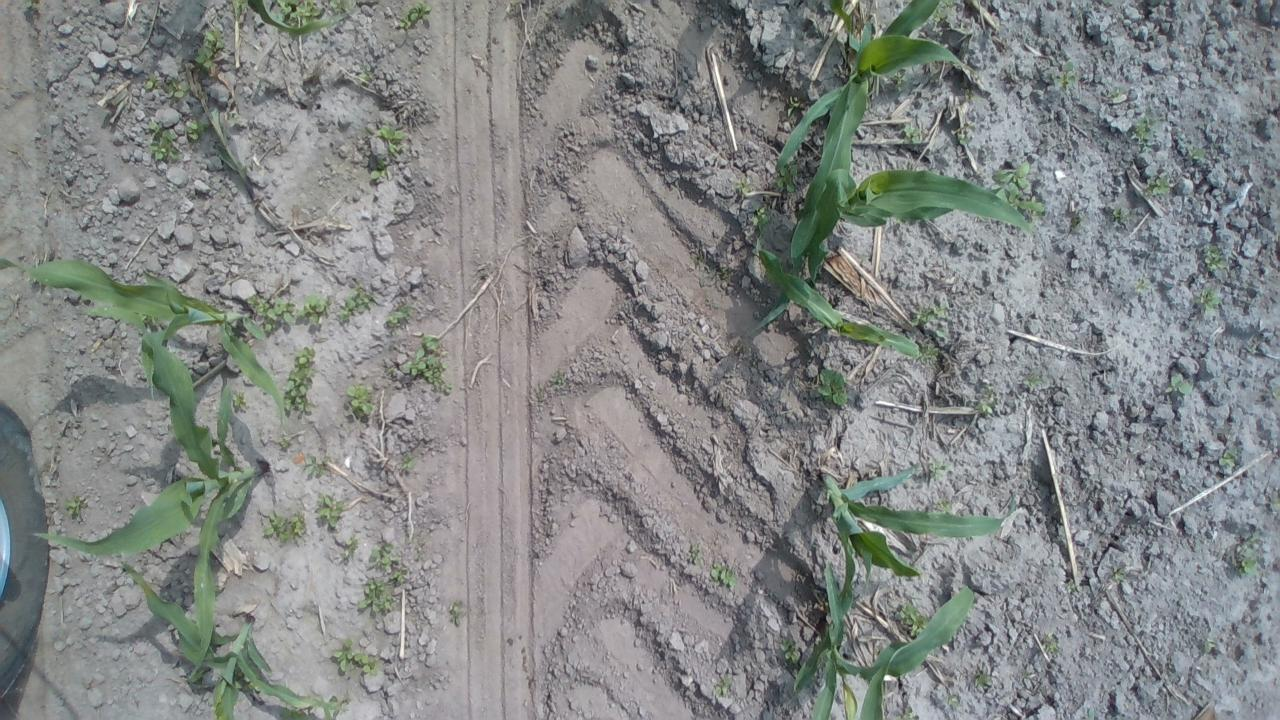Maize: (30, 306, 264, 681), (0, 250, 291, 436), (780, 1, 976, 261), (749, 168, 1035, 337), (112, 552, 338, 720), (814, 464, 1024, 630), (790, 585, 979, 720), (754, 248, 924, 365)
Weeds: (402, 332, 456, 404), (366, 121, 408, 187), (258, 2, 352, 30), (909, 288, 955, 343), (245, 294, 301, 336), (282, 350, 318, 414), (356, 579, 404, 627), (331, 636, 385, 678), (990, 156, 1036, 202), (813, 366, 855, 413), (260, 509, 310, 548), (341, 378, 383, 422), (194, 28, 228, 78), (1226, 532, 1260, 582), (144, 116, 176, 167), (335, 286, 368, 334), (1142, 166, 1188, 200), (303, 288, 335, 334), (896, 599, 930, 641), (1016, 366, 1051, 406), (364, 538, 402, 574), (440, 594, 474, 634), (314, 488, 344, 532), (1190, 282, 1228, 316), (396, 3, 432, 38), (382, 298, 416, 334), (1163, 366, 1197, 402), (392, 450, 432, 479), (774, 160, 801, 202), (708, 558, 738, 594), (923, 452, 951, 490), (1198, 246, 1228, 278), (1134, 114, 1158, 153), (952, 128, 982, 159), (62, 498, 95, 526), (1133, 276, 1166, 304), (1055, 58, 1080, 94), (899, 122, 932, 149), (974, 388, 1001, 421), (1038, 629, 1064, 663), (1106, 203, 1132, 235), (1216, 444, 1240, 478), (302, 452, 328, 482), (712, 670, 738, 700), (934, 499, 964, 525), (139, 72, 164, 103), (1069, 203, 1087, 245), (1108, 86, 1138, 111), (166, 78, 193, 105), (182, 116, 206, 146), (544, 368, 572, 393), (778, 639, 806, 664), (338, 535, 358, 569), (1018, 195, 1046, 219), (973, 662, 995, 692), (353, 60, 377, 86), (528, 384, 554, 408), (1186, 144, 1212, 168), (752, 202, 772, 233), (733, 170, 753, 198), (686, 538, 702, 571), (1202, 637, 1221, 661), (1108, 566, 1127, 590), (232, 391, 250, 414), (1062, 577, 1079, 600)
